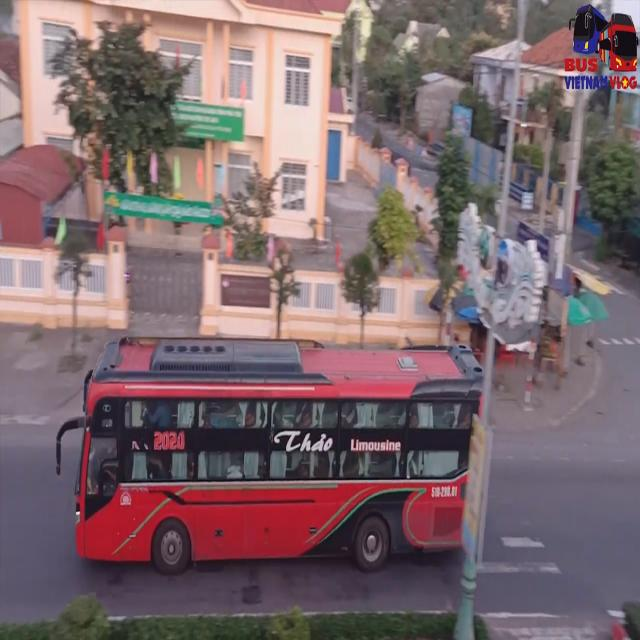bus: (74, 339, 479, 572)
